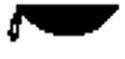Basket: (5, 2, 121, 45)
